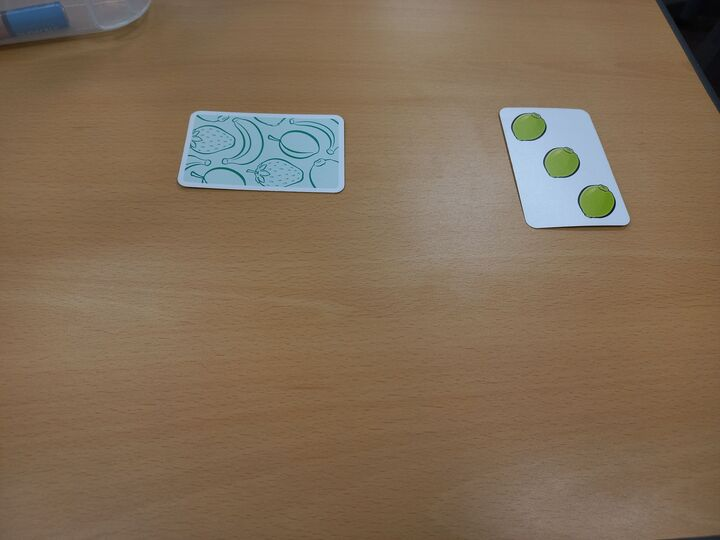lime3: (497, 106, 633, 230)
